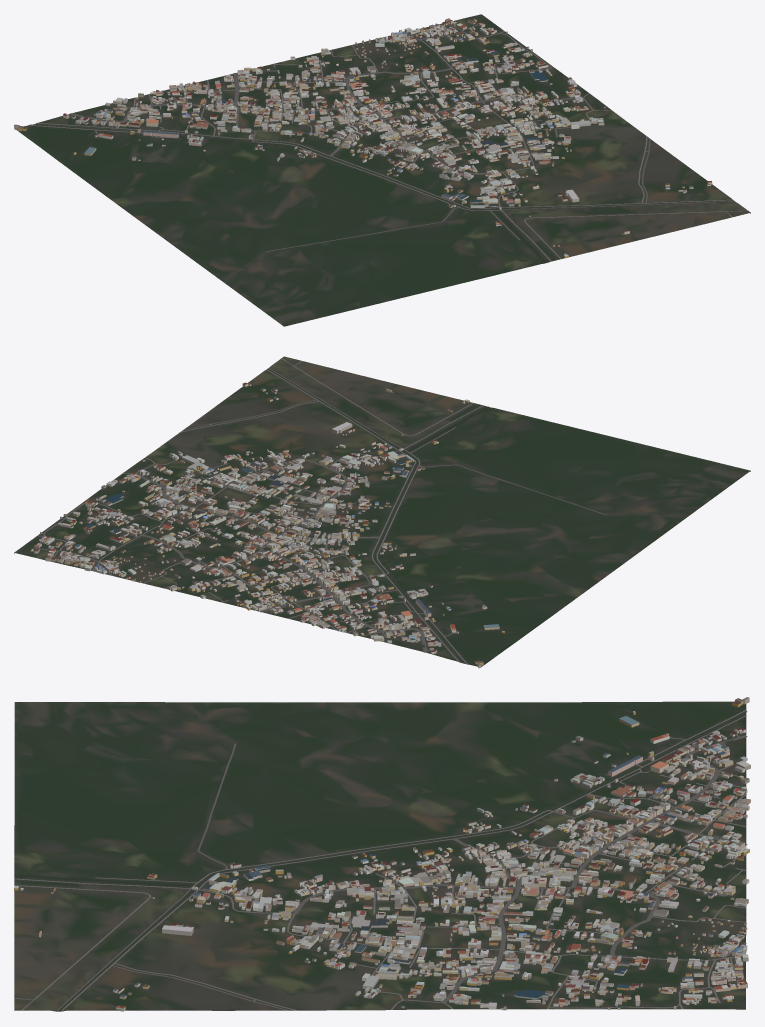
3 views of the same model, one above another, from view 1: azimuth 30°, elevation 25°; view 2: azimuth 150°, elevation 25°; view 3: azimuth 270°, elevation 25° (orthographic). The views are drawn at different scales.
Parts seen in each view (by area): view 1: ground, buildings, roads, water; view 2: ground, buildings, roads, water; view 3: ground, buildings, roads, water.
Boxes of the visible parts, bbox=[...] form: ground: bbox=[14, 14, 750, 326]; buildings: bbox=[14, 18, 712, 258]; roads: bbox=[15, 24, 748, 261]; water: bbox=[30, 124, 734, 262]; ground: bbox=[14, 356, 750, 666]; buildings: bbox=[30, 382, 504, 668]; roads: bbox=[33, 358, 606, 666]; water: bbox=[267, 368, 489, 663]; ground: bbox=[14, 701, 746, 1011]; buildings: bbox=[14, 697, 750, 1011]; roads: bbox=[14, 710, 747, 1010]; water: bbox=[14, 711, 747, 1011].
Size of the model in its own units: 1403 by 26.6 by 1410.
